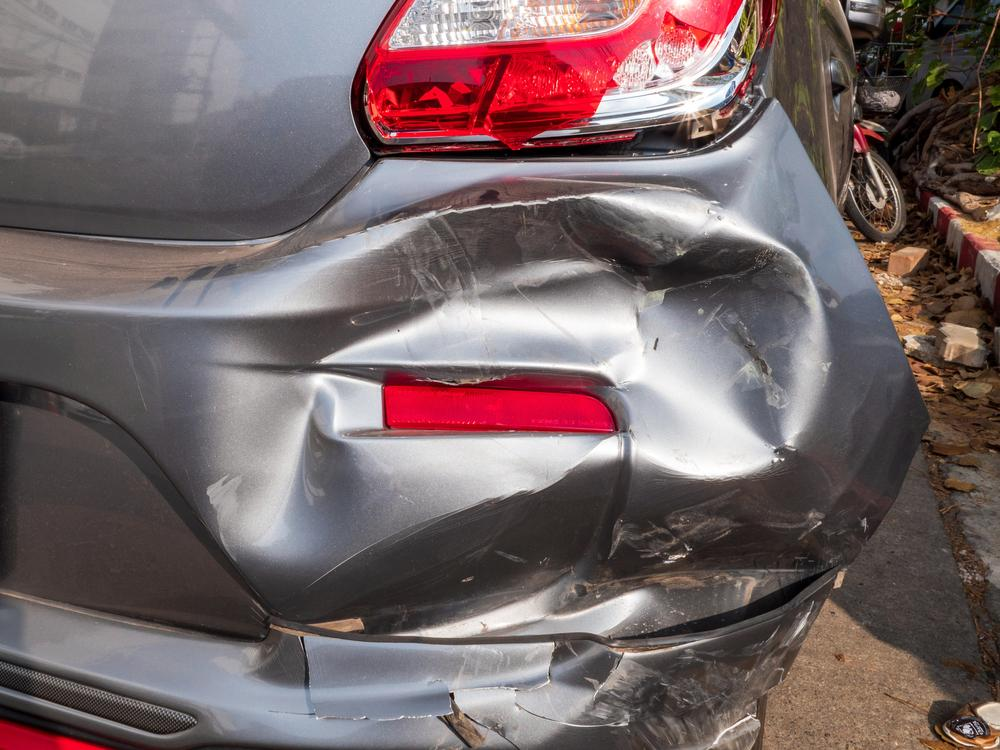crack: (268, 636, 590, 750), (614, 568, 833, 642)
dent: (199, 201, 818, 556)
lamp broken: (359, 0, 786, 151)
scratch: (587, 619, 801, 750)
